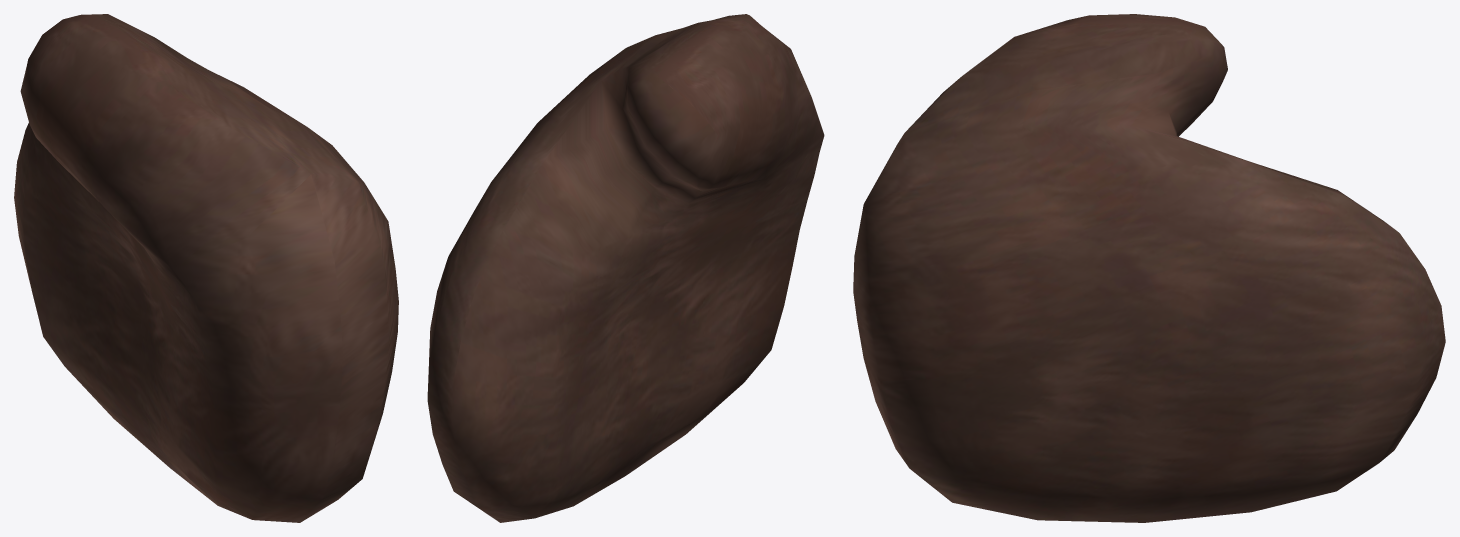
File: avatar3-hand-right.glb
The picture shows the model from 3 angles, left to right: view 1: azimuth 30°, elevation 25°; view 2: azimuth 150°, elevation 25°; view 3: azimuth 270°, elevation 25°; orthographic projection. The views are drawn at different scales.
Parts seen in each view (by area): view 1: hand-right; view 2: hand-right; view 3: hand-right.
Part boxes in pixels (x1,y1,x2,y2): hand-right: [14, 14, 398, 522]; hand-right: [427, 14, 824, 522]; hand-right: [853, 14, 1445, 522].
Bounding box in the file's own units: 0.1431 × 0.2551 × 0.2981.
1 material, 1 textured.
